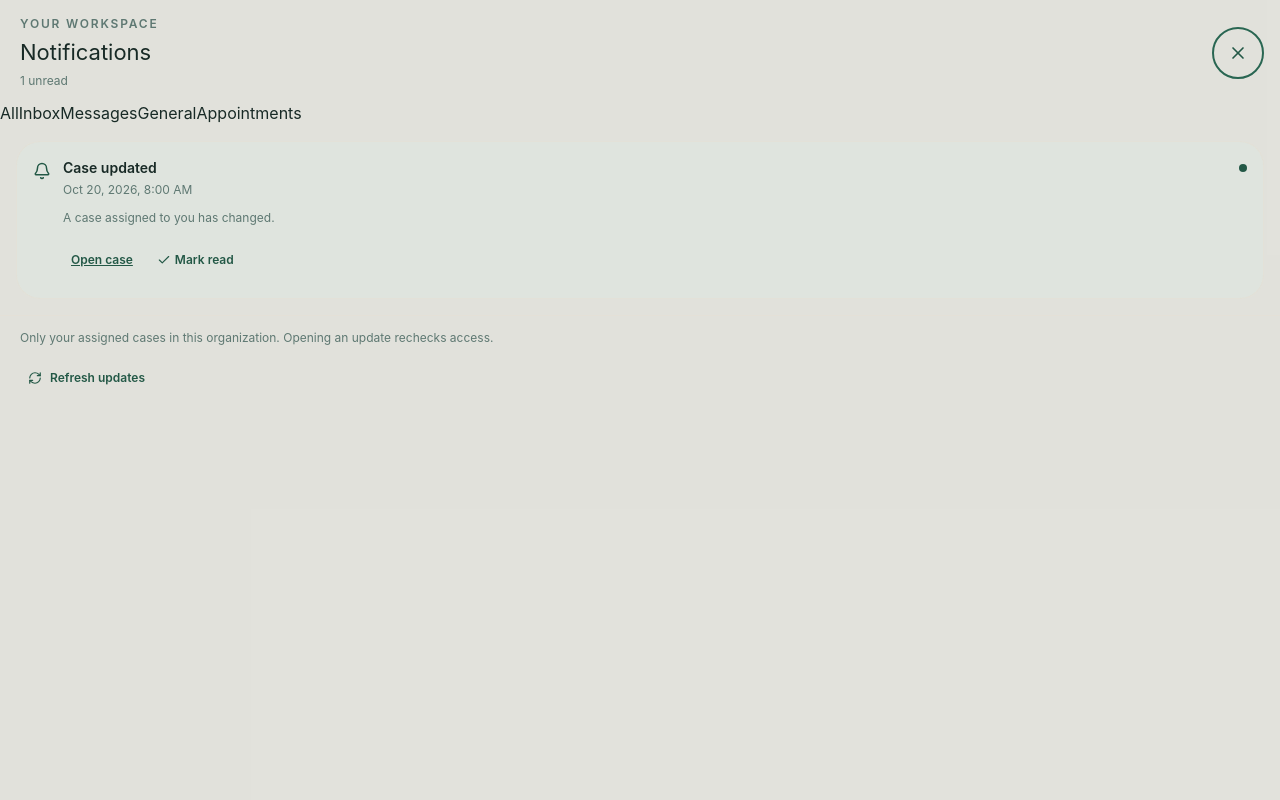
Test: keeps the unread state until one server acknowledgment and ignores duplicate clicks
The image size is (1280, 800).
Click the button "Mark read": (195, 260) [149,238,242,282]
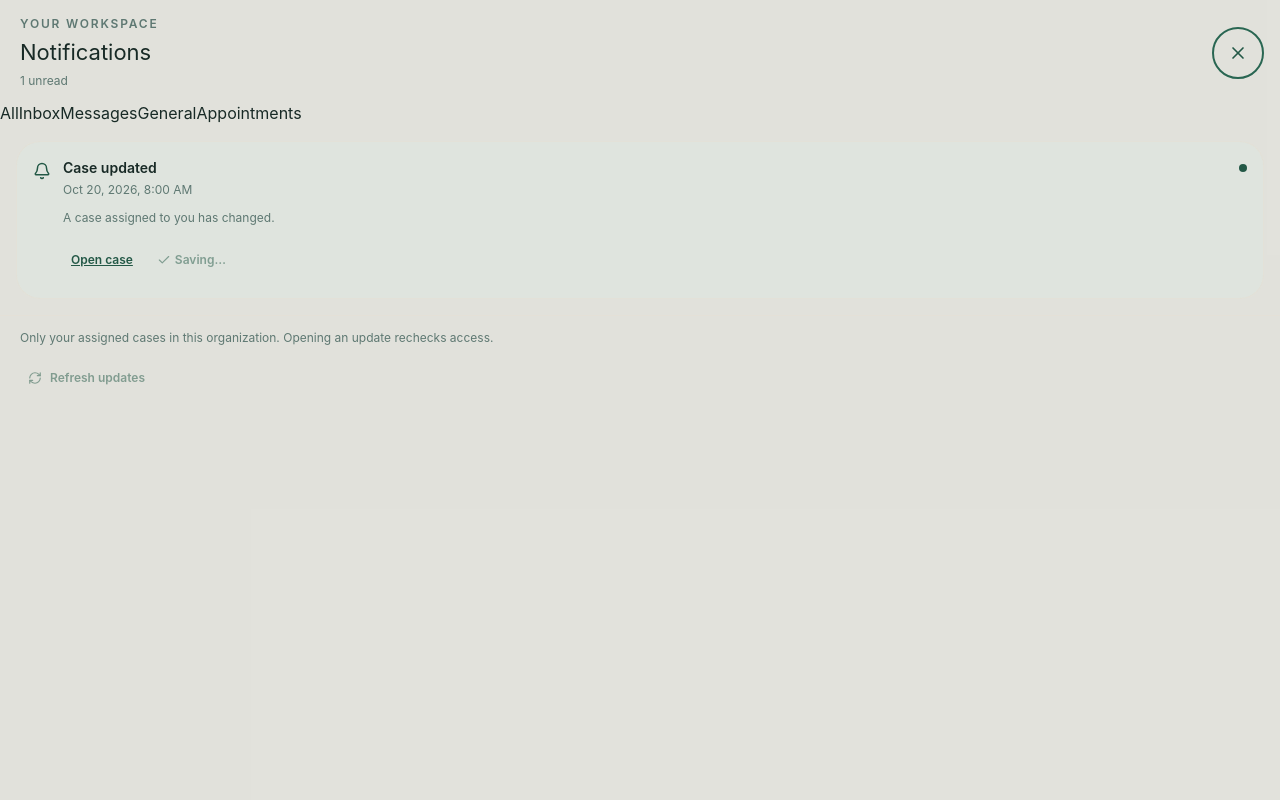
Click the button named "Mark read": (191, 260) [149,238,234,282]
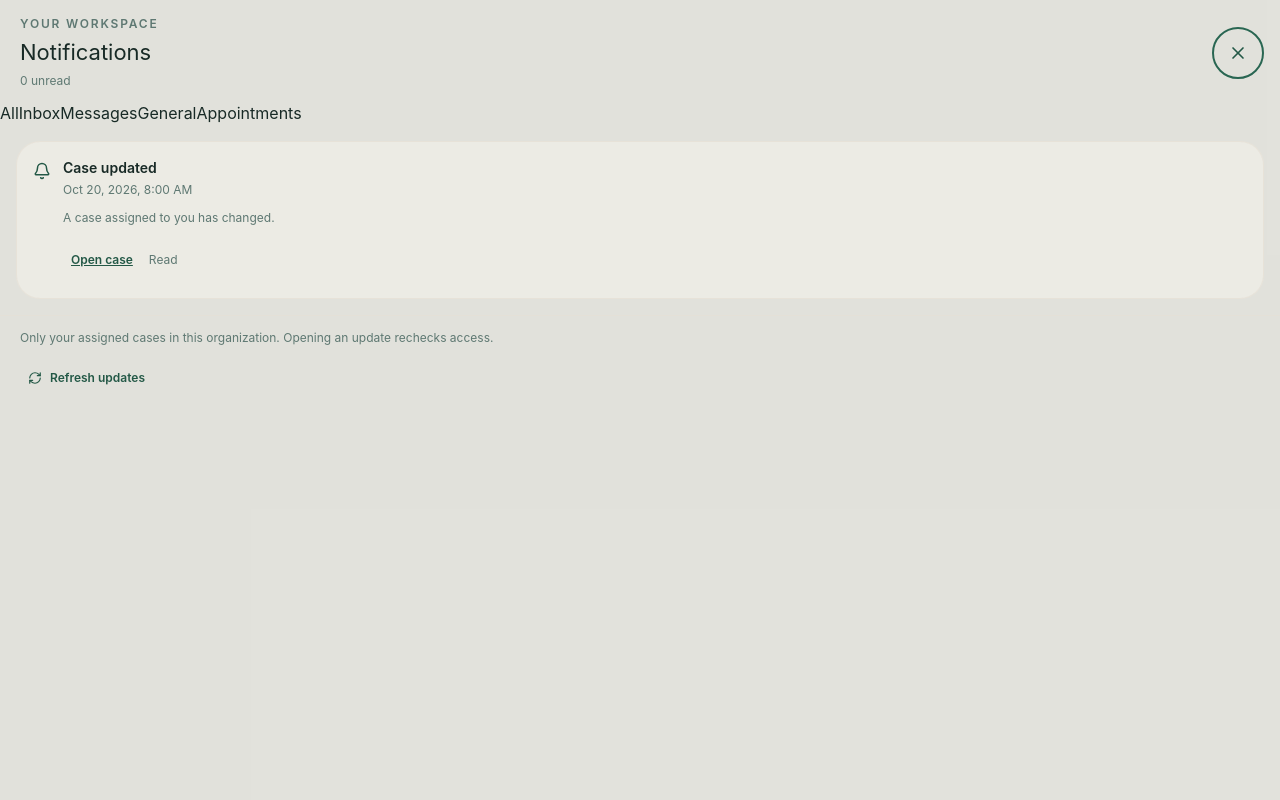
Result: the text "0 unread" is shown at [20,73,71,88]
